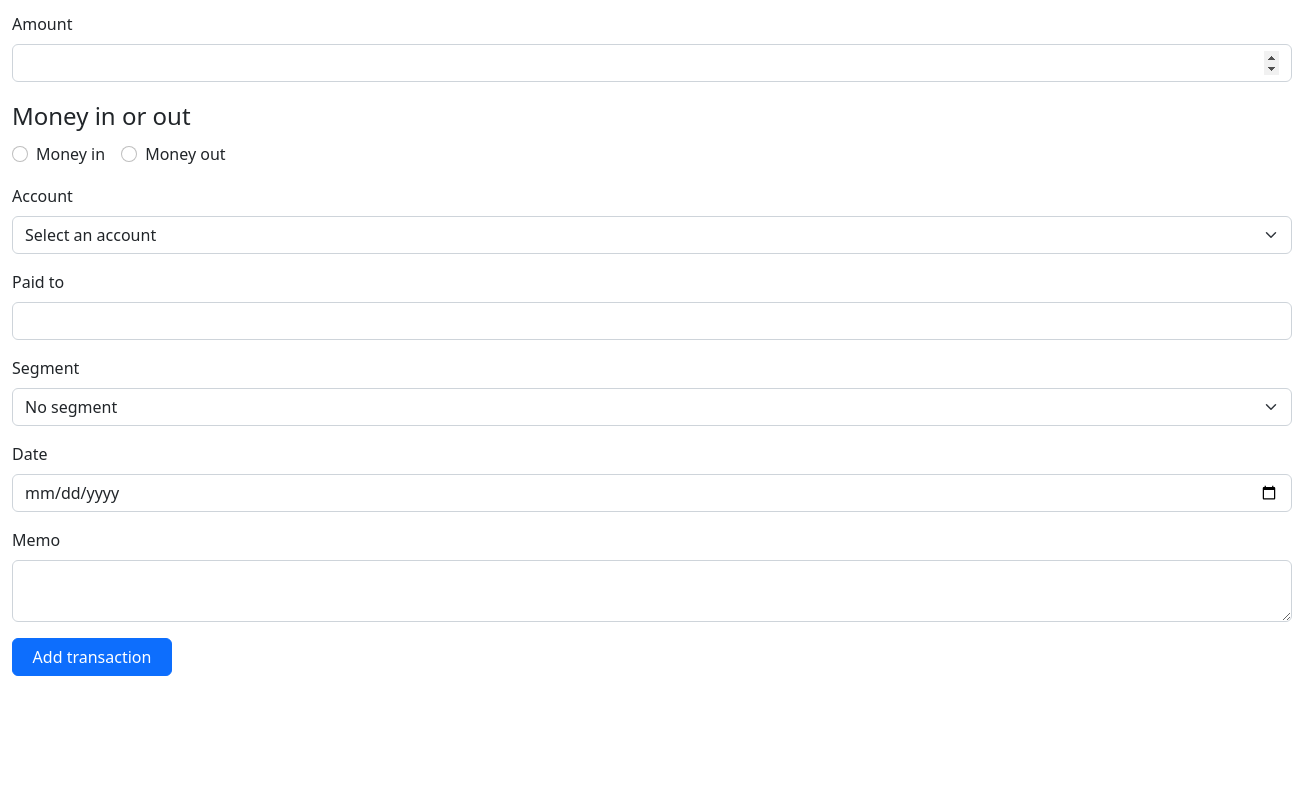
backend 400 shows the dedicated error view, distinct from inline field validation
This screenshot has width=1304, height=812.
Step 1. Type "25.50" into the number field labelled "Amount" → (652, 63), box [12,44,1292,82]
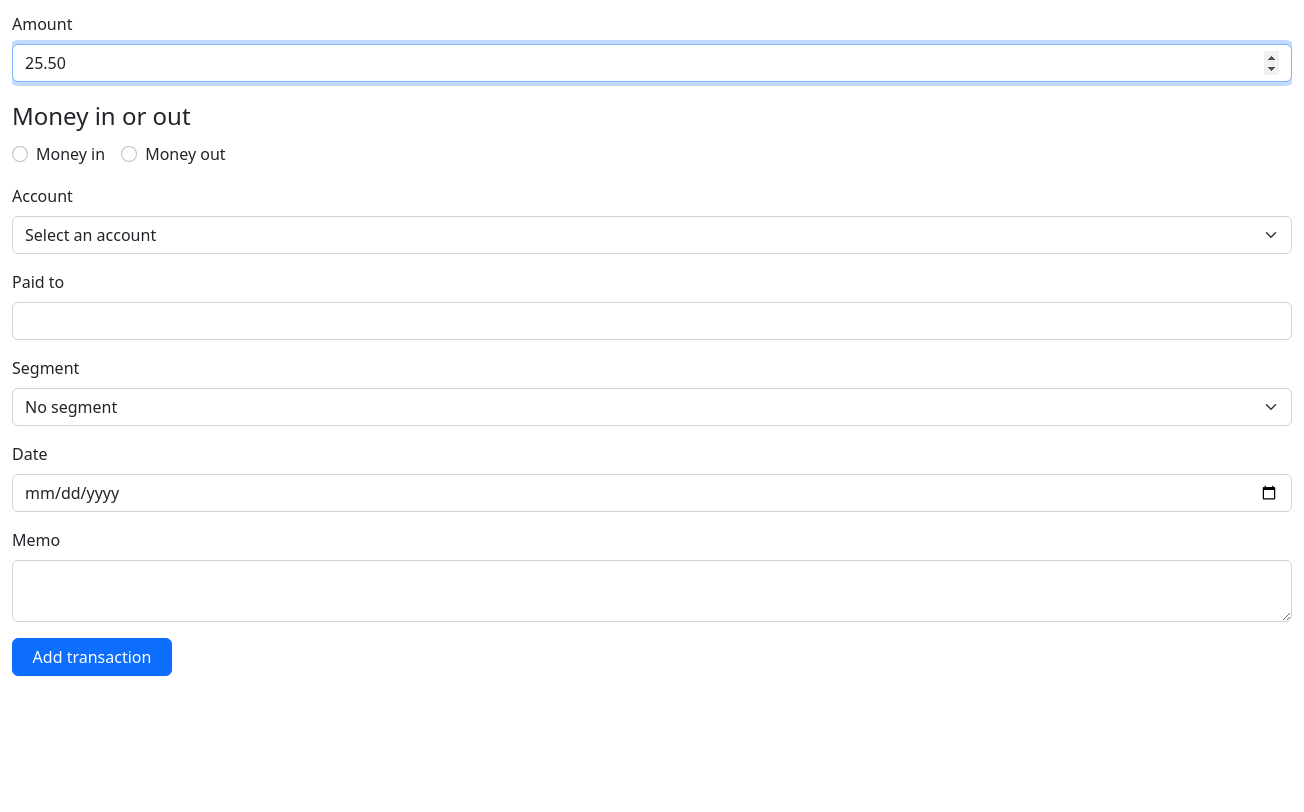
Step 2. Click the radio button labelled "Money in" → click(20, 154), box [12,146,28,162]
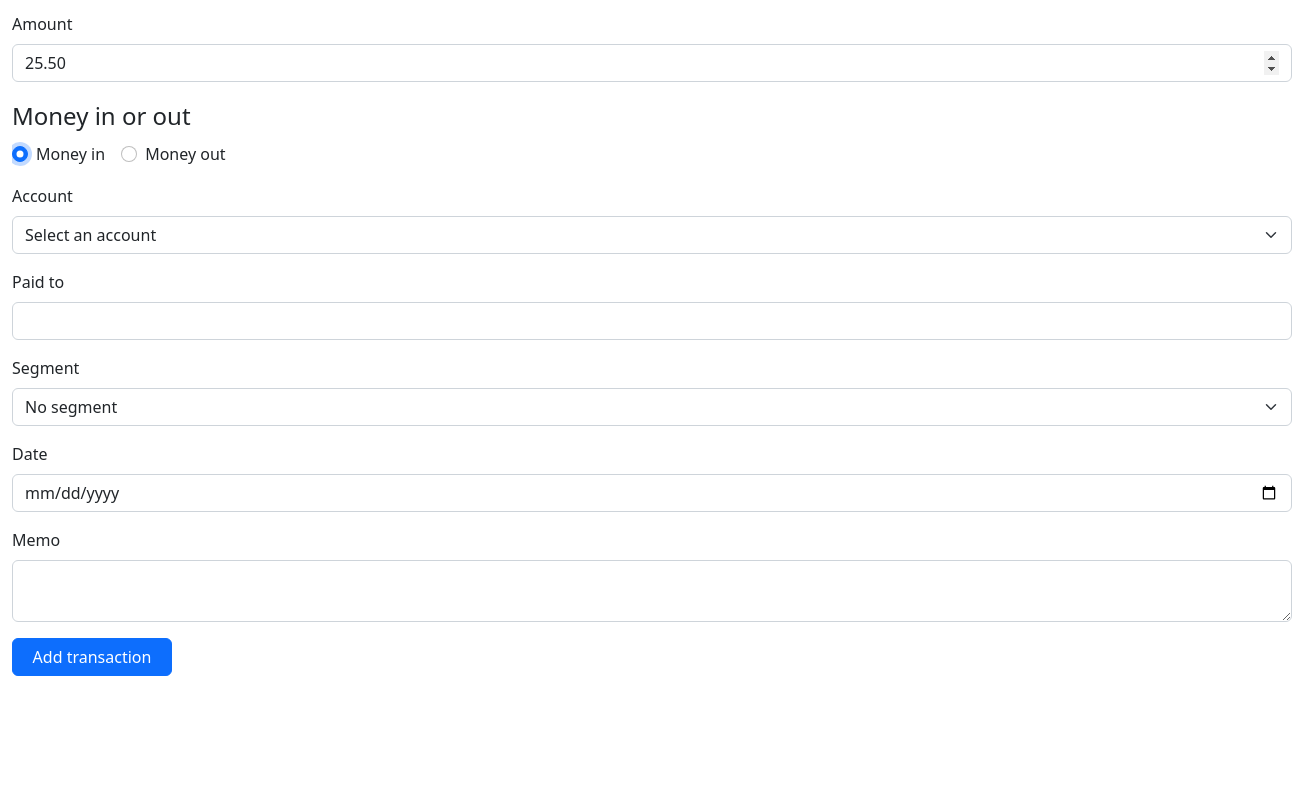
Step 3. Select "Current Account" in the dropdown labelled "Account" → (652, 235), box [12,216,1292,254]
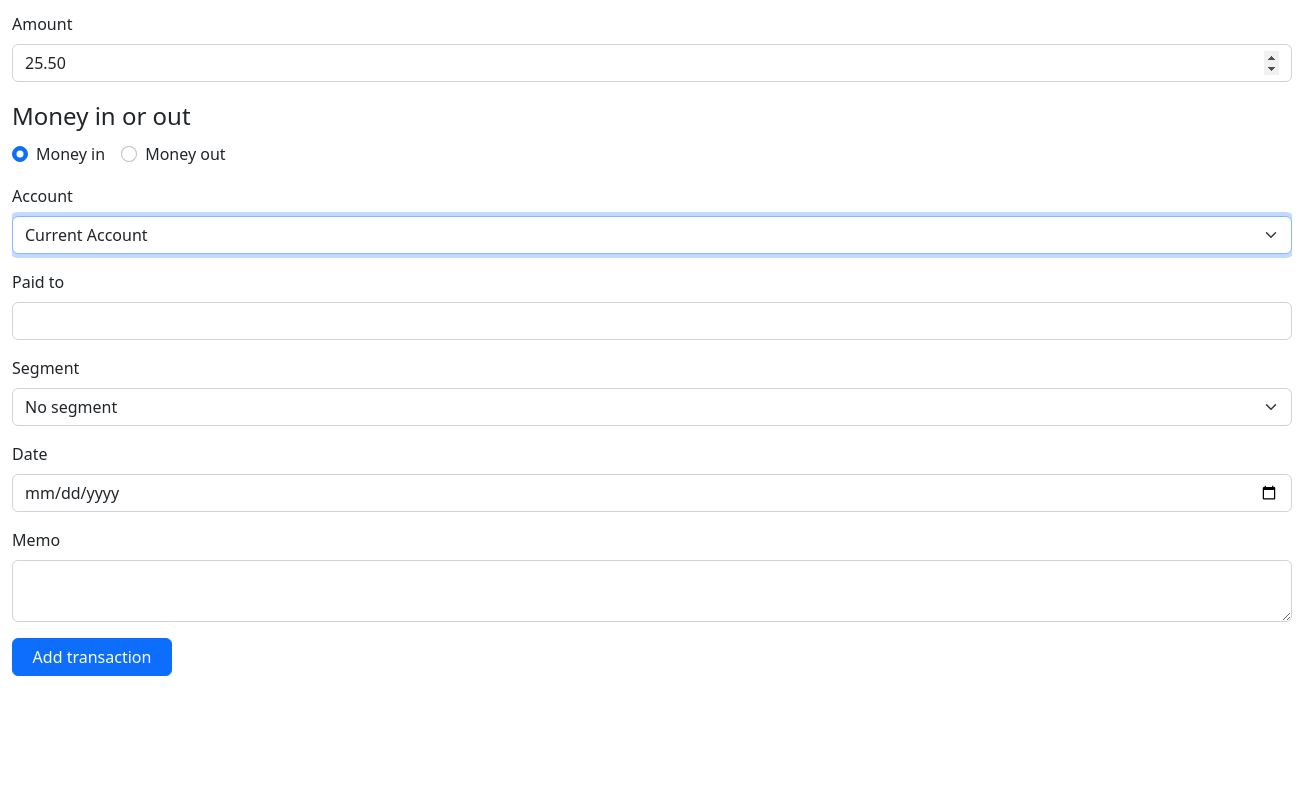
Step 4. Type "Tesco" into the field labelled "Paid to" → (652, 321), box [12,302,1292,340]
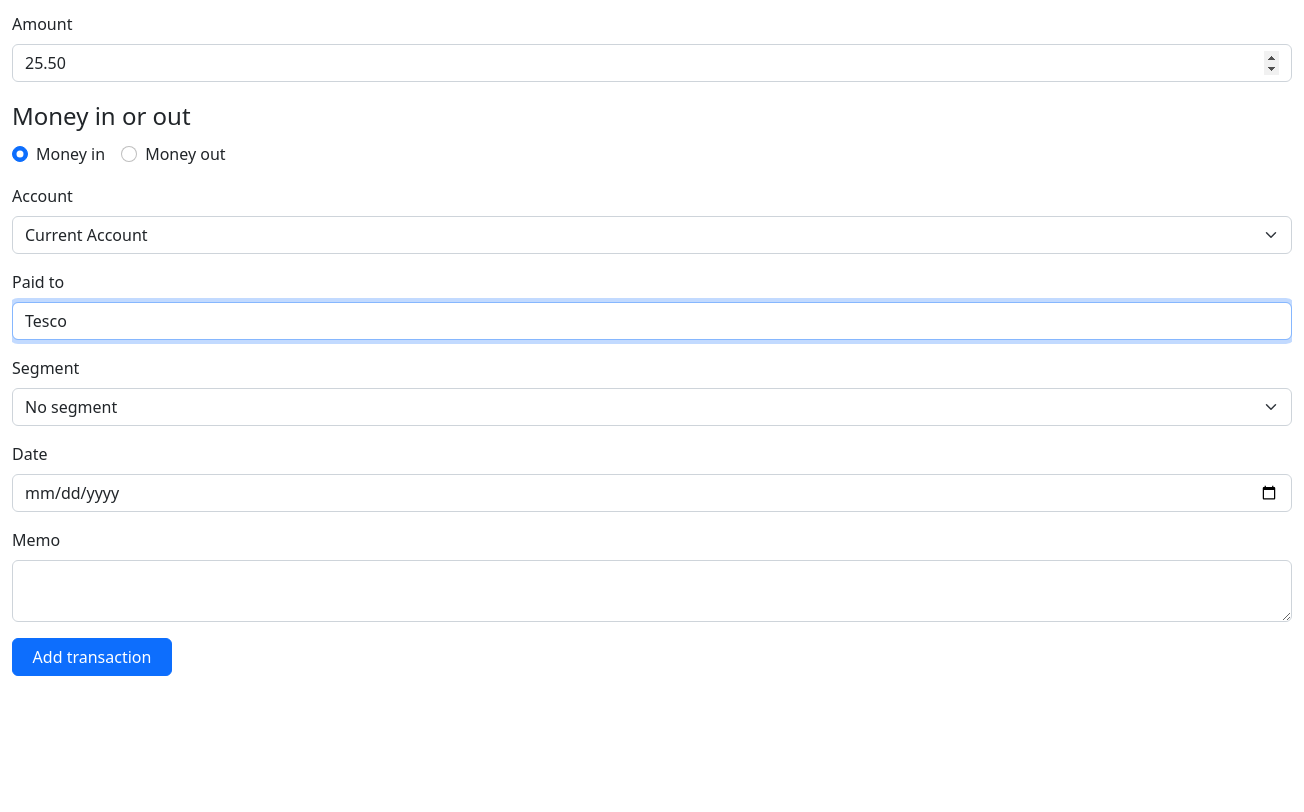
Step 5. Type "2020-01-15" into the date field labelled "Date" → (652, 493), box [12,474,1292,512]
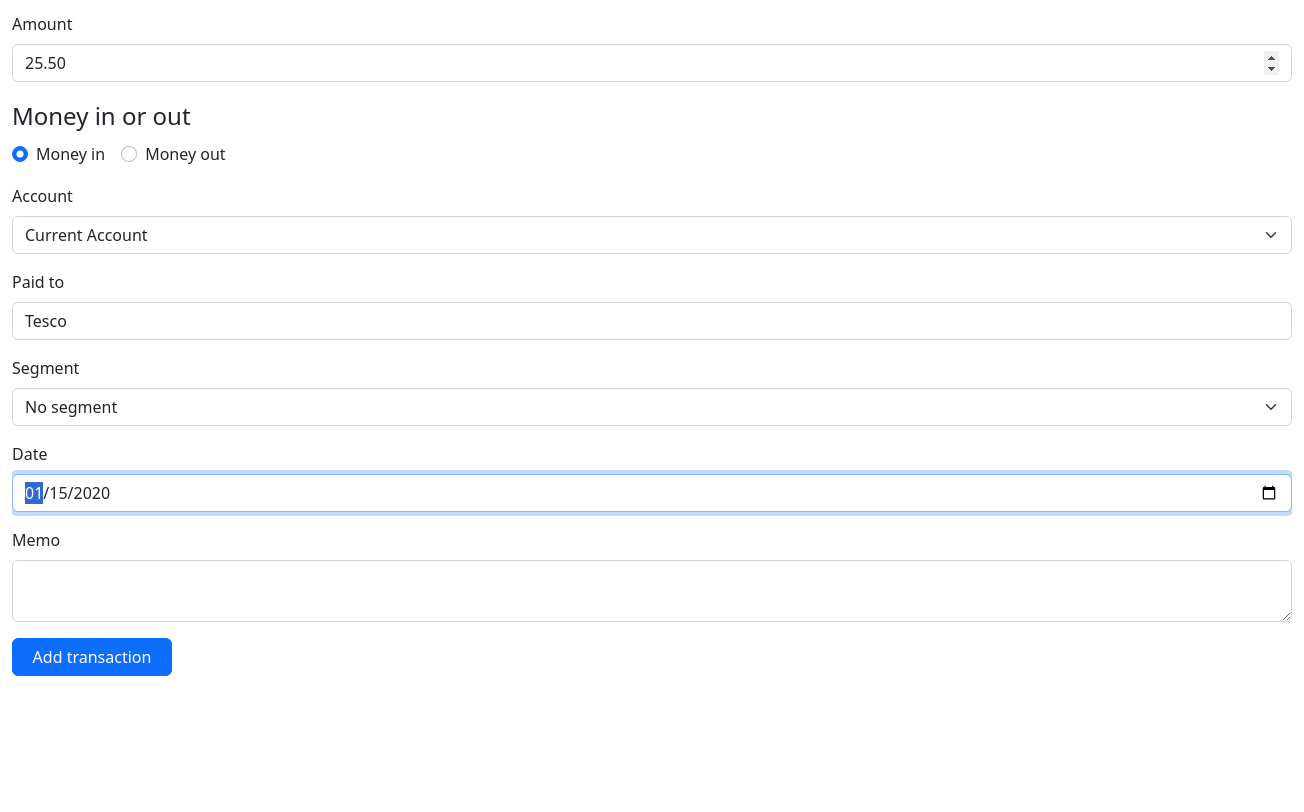
Step 6. Click the button "Add transaction" → click(92, 657), box [12,638,172,676]
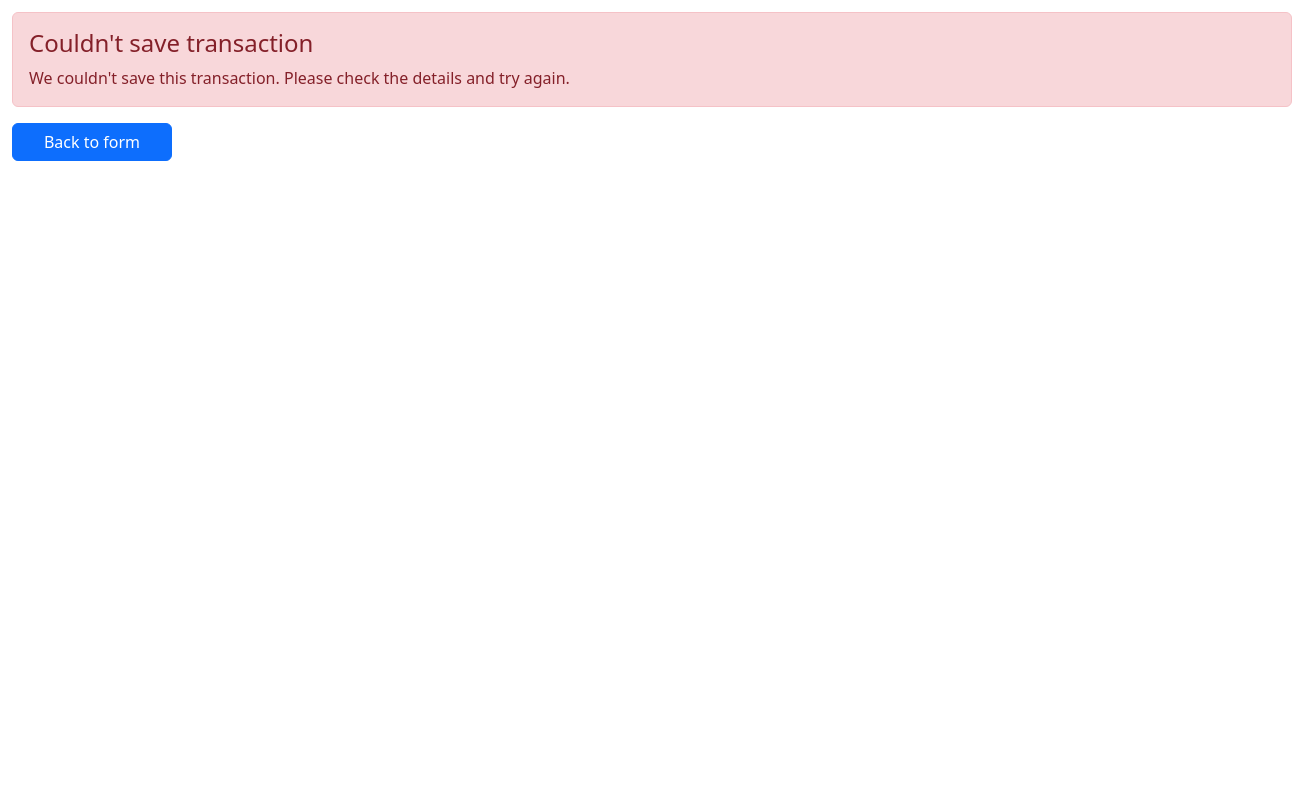
expect the text "Couldn't save transaction" is shown: met, box [29,26,313,59]
expect the button "Back to form" is shown: met, box [12,123,172,161]
